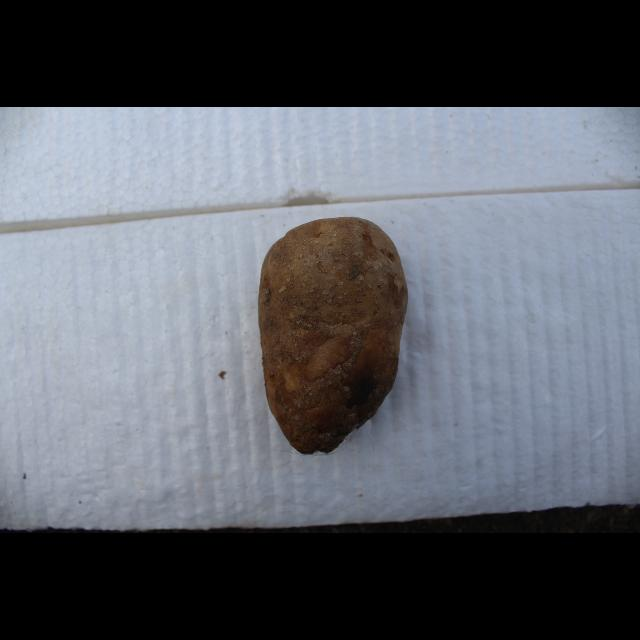Diseased-fungal potato: (259, 214, 411, 456)
